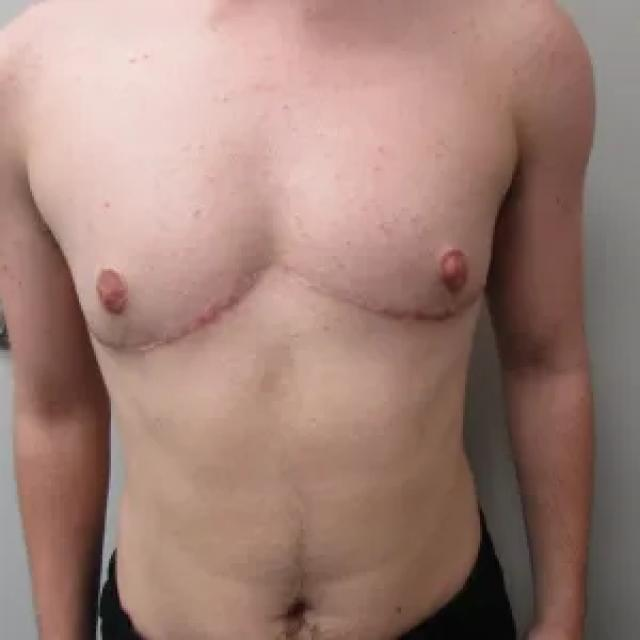Seno herido: (278, 125, 505, 349), (46, 151, 270, 362)
